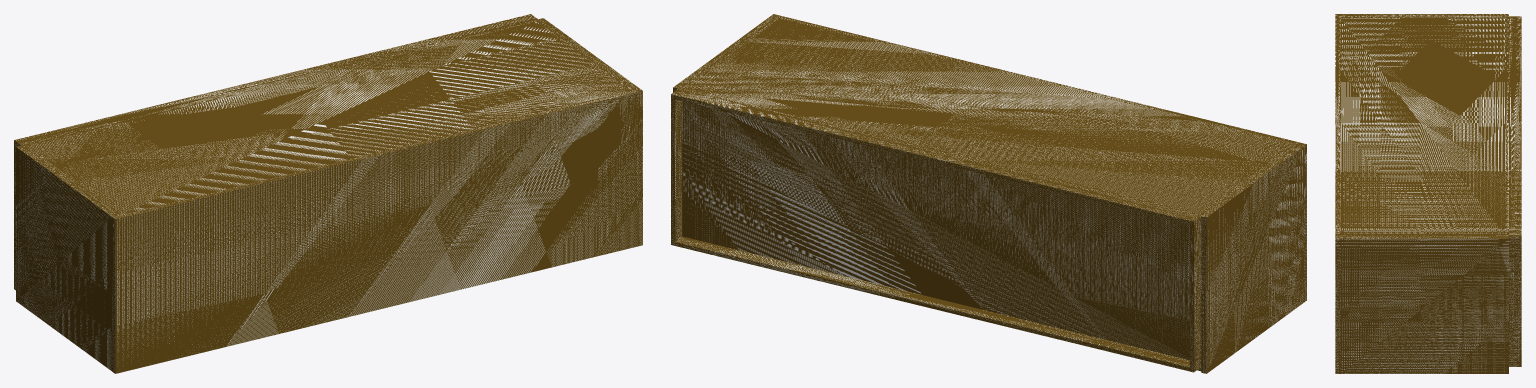
The picture shows the model from 3 angles, left to right: view 1: azimuth 30°, elevation 25°; view 2: azimuth 150°, elevation 25°; view 3: azimuth 270°, elevation 25°; orthographic projection. The views are drawn at different scales.
Parts seen in each view (by area): view 1: mesh6_mesh6-geometry; view 2: mesh6_mesh6-geometry; view 3: mesh6_mesh6-geometry.
Part boxes in pixels (<box>): mesh6_mesh6-geometry: <box>14,14,642,373</box>; mesh6_mesh6-geometry: <box>671,14,1306,373</box>; mesh6_mesh6-geometry: <box>1335,14,1521,373</box>.
Size of the model in its own units: 0.9125 by 0.2555 by 0.3194.
